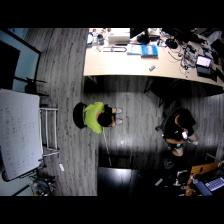normal: (160, 109, 201, 158), (78, 94, 129, 133)
